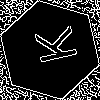K: (25, 25, 78, 68)
